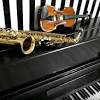Piano: (27, 73, 100, 100)
Saxophone: (1, 28, 86, 59)
Violin: (37, 2, 100, 31)
